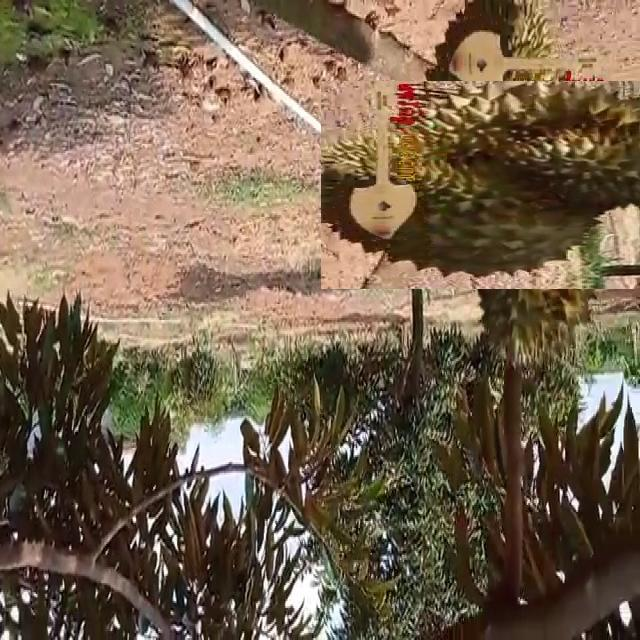durian: (359, 42, 640, 329)
